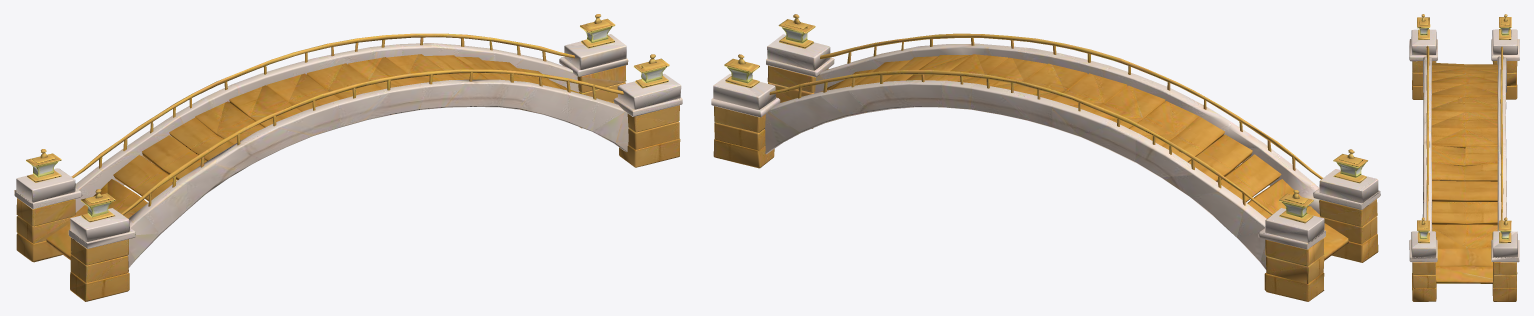
File: bridge-repaired.glb
3 views of the same model, side by side, from view 1: azimuth 30°, elevation 25°; view 2: azimuth 150°, elevation 25°; view 3: azimuth 270°, elevation 25° (orthographic). The views are drawn at different scales.
Parts seen in each view (by area): view 1: bridge-repaired; view 2: bridge-repaired; view 3: bridge-repaired.
Boxes of the visible parts, bbox=[...] form: bridge-repaired: bbox=[14, 14, 682, 301]; bridge-repaired: bbox=[711, 14, 1380, 301]; bridge-repaired: bbox=[1409, 14, 1519, 301].
Size of the model in its own units: 14 by 3.2 by 3.
1 material, 1 textured.
